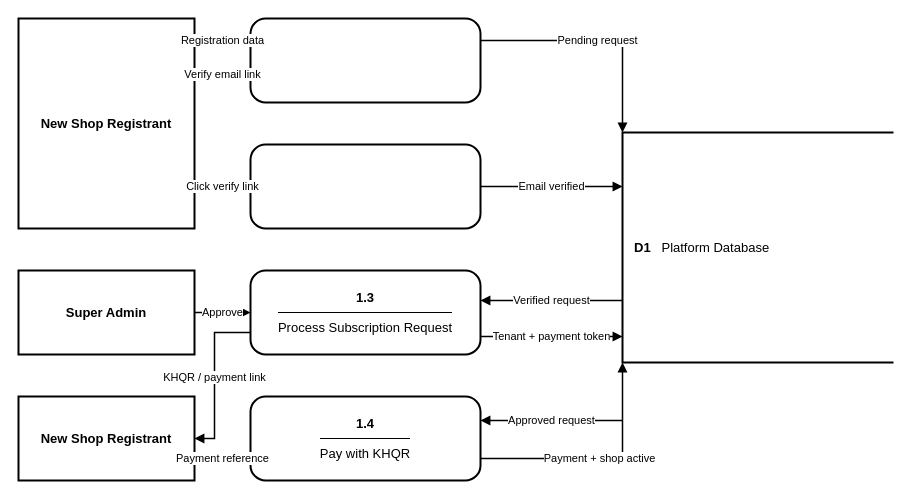
This 910x498 diagram has some shape labels left out. The centre of each missing label's shape, as x and y in pixels:
"1.1 Submit Registration Data" goes at (x=365, y=60).
"1.2 Verify Email" goes at (x=365, y=186).
